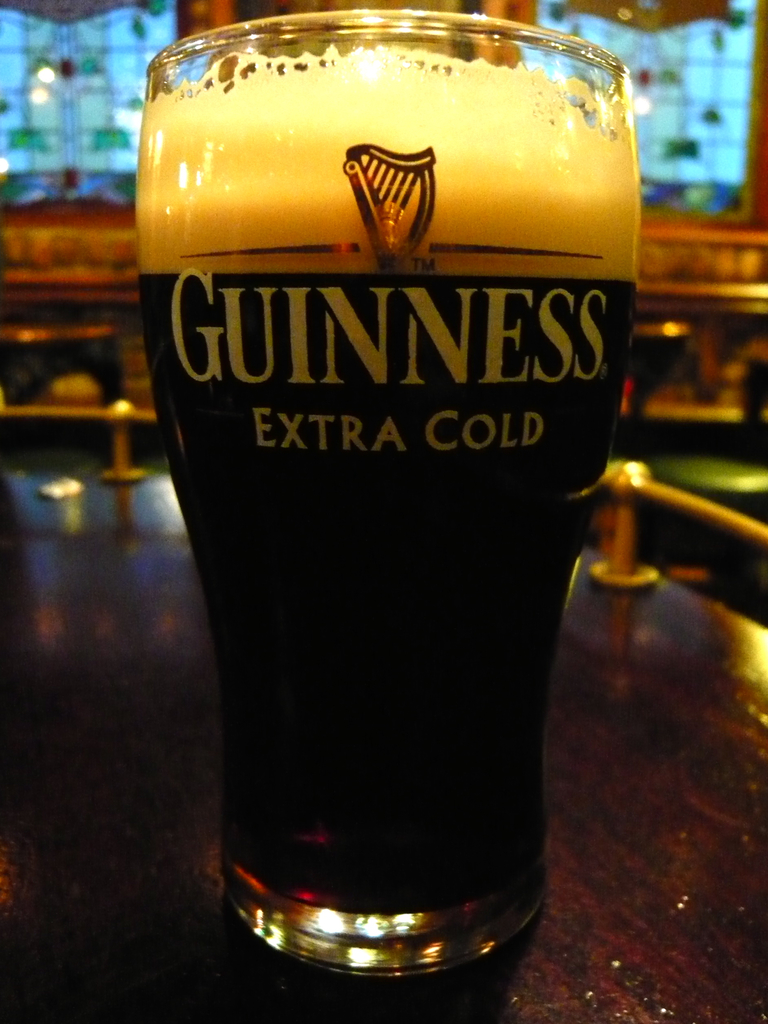Beer: (144, 48, 637, 915)
